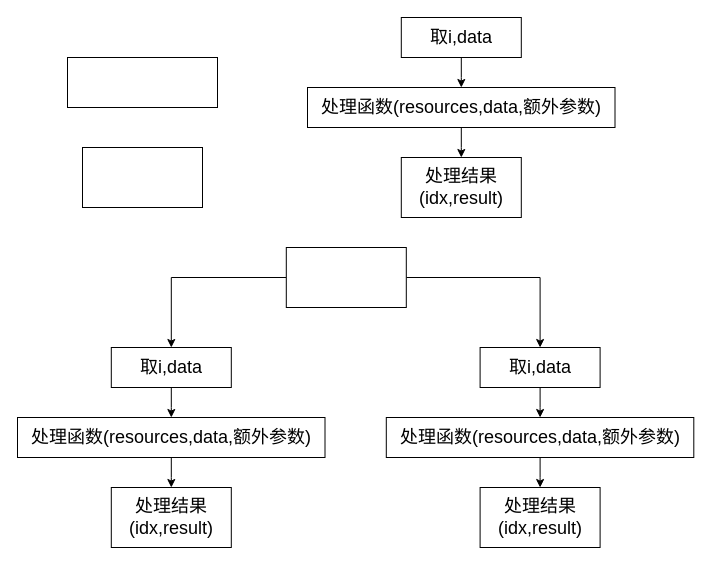
Some shapes in this 712 by 565 pixel diagram are drawn without their labels. Here are the shapes that lost their labels. From the top down, the centre of each, then its label:
the point at 142,82: resources [*参数,id]
the point at 142,177: 任务队列 [i,data]
the point at 345,277: 执行并发处理 传i,resouces[i]
